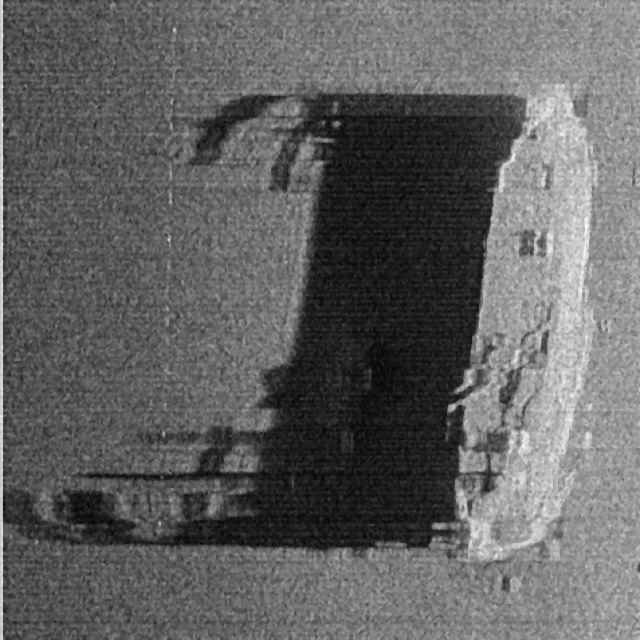Ship: (432, 77, 608, 577)
